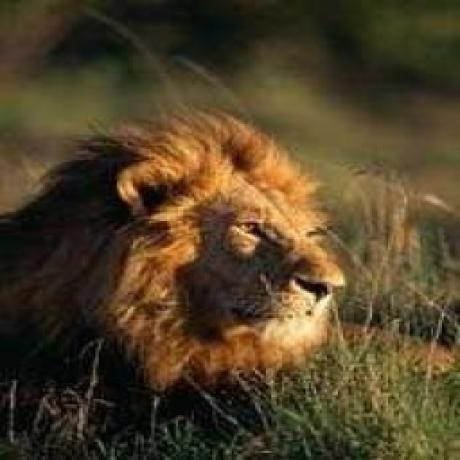Lion: (0, 108, 354, 407)
